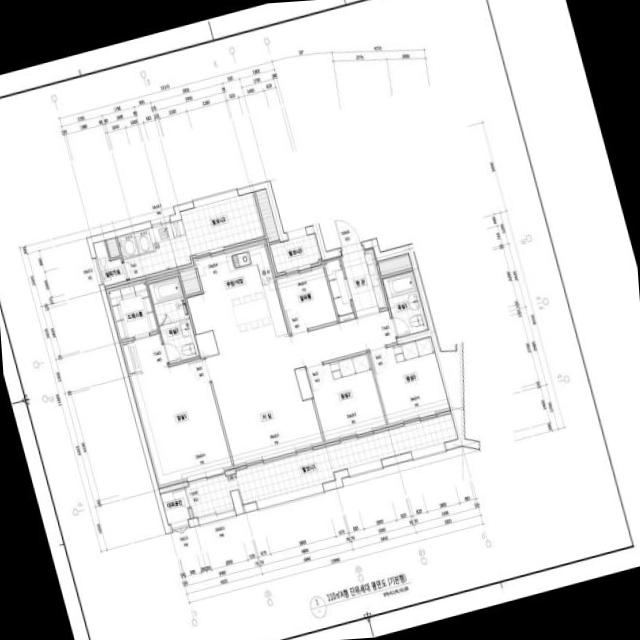background: (0, 0, 640, 640)
space_balconi: (186, 413, 457, 517), (117, 192, 265, 280), (269, 233, 322, 273)
space_bedroom: (129, 357, 232, 488), (369, 336, 450, 426), (306, 353, 387, 443)
space_dressroom: (105, 279, 168, 377)
space_front: (323, 244, 388, 323)
space_kitchen: (186, 239, 289, 359)
space_living_room: (206, 310, 397, 467)
space_other: (275, 264, 337, 333), (255, 189, 279, 242), (160, 488, 190, 524), (377, 253, 412, 275), (179, 265, 201, 295), (106, 237, 119, 257)
space_outdoor_room: (93, 240, 126, 286)
space_toilet: (148, 275, 200, 363), (382, 270, 428, 337)
